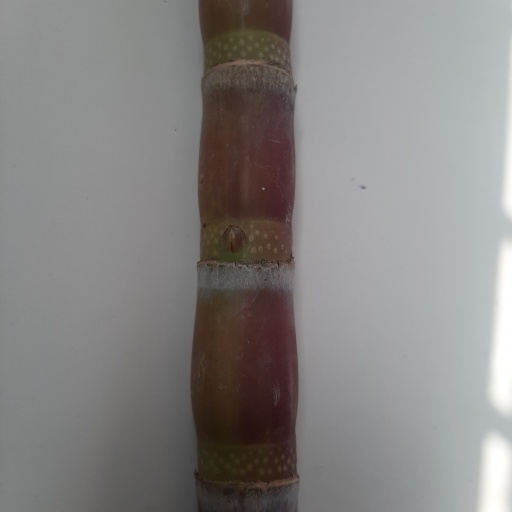Bud: (222, 224, 246, 255)
